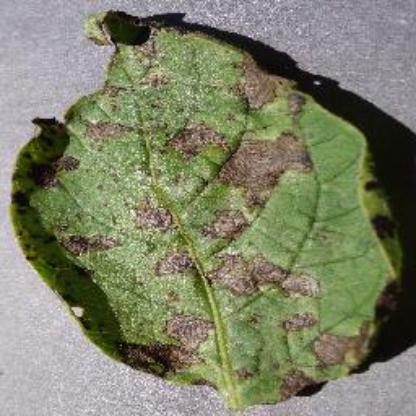Early-Blight: (9, 9, 414, 410)
